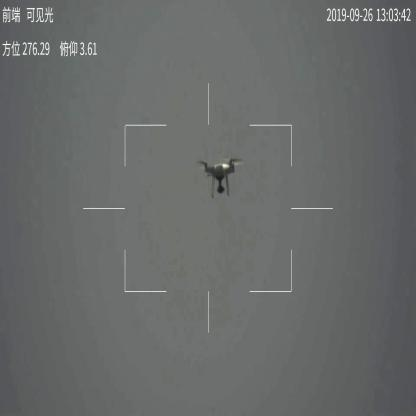uav: (196, 157, 240, 200)
